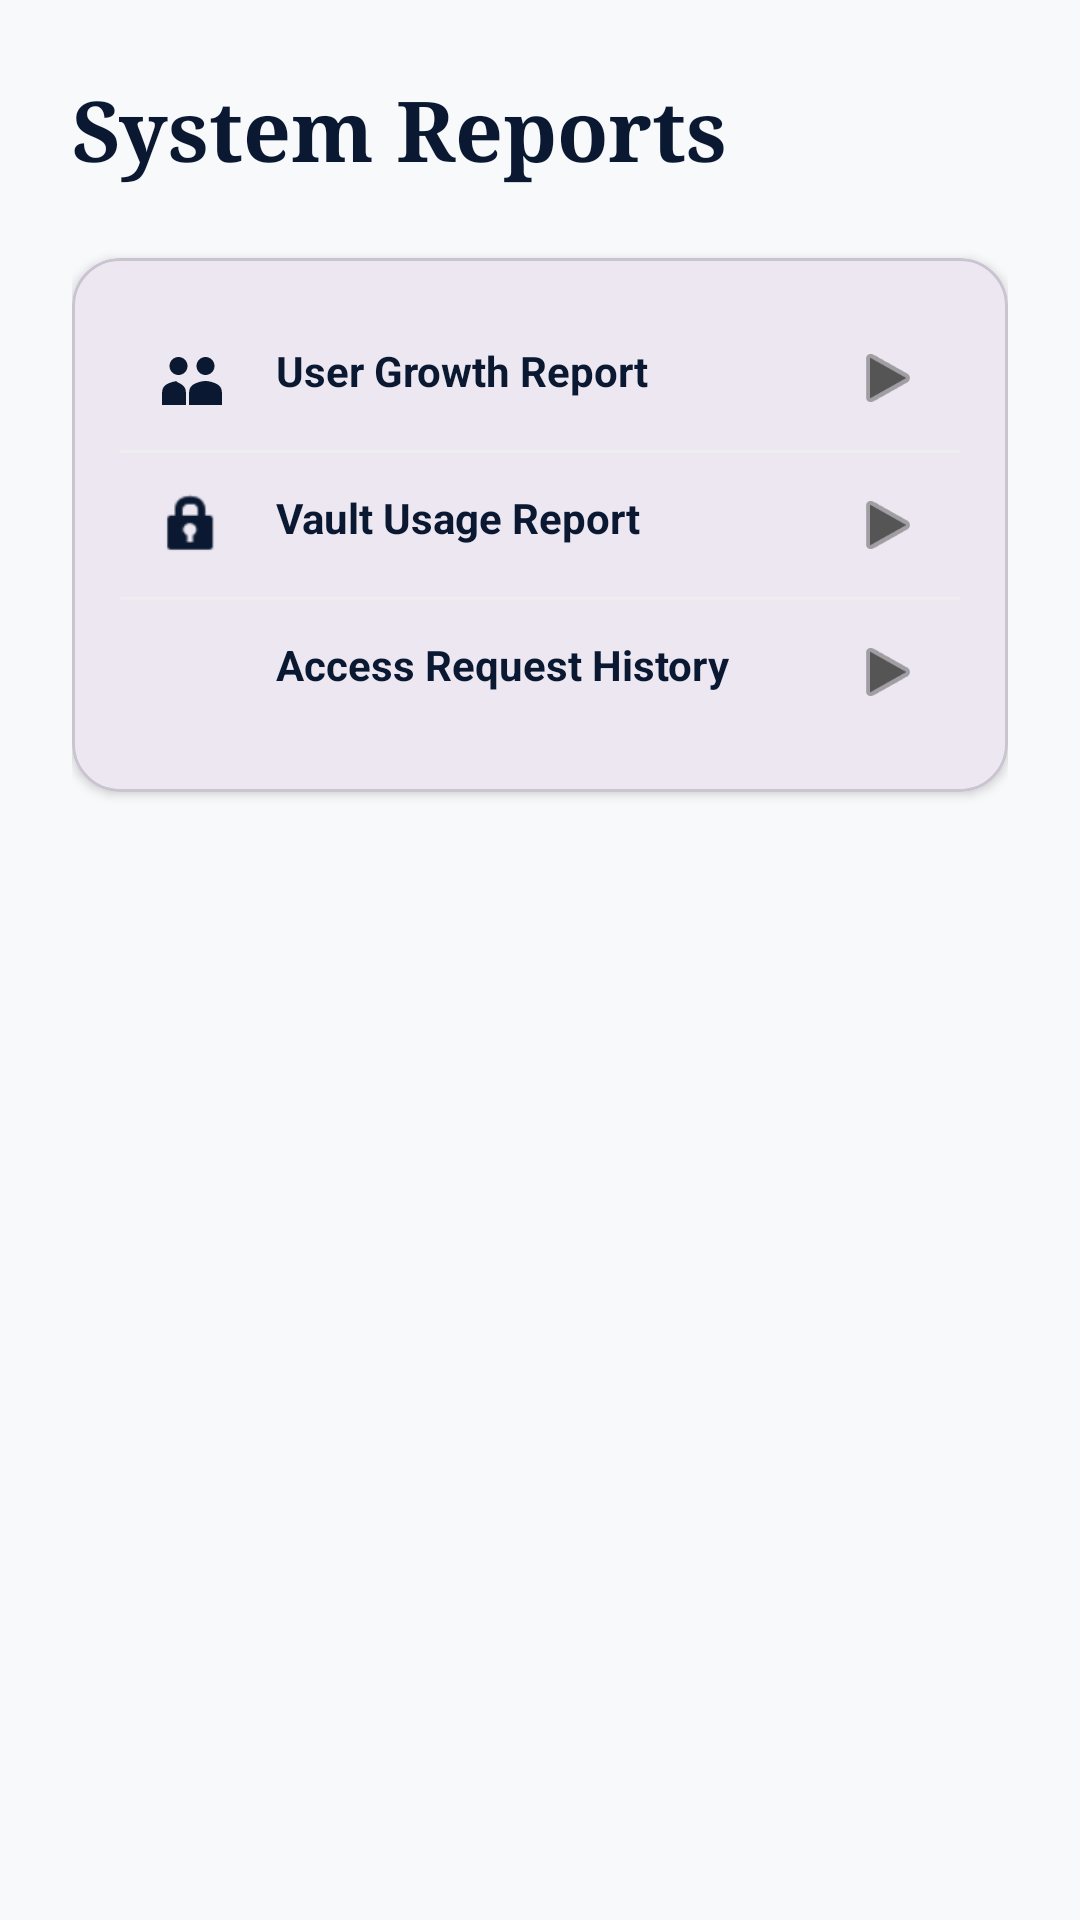

Screen size 1080x1920. Icon name, then its box in pixels as (x1, y1, x2, y2):
lock idle: (167, 495, 214, 550)
people: (162, 357, 222, 405)
play: (866, 354, 910, 402), (866, 501, 910, 549), (866, 648, 910, 696)
